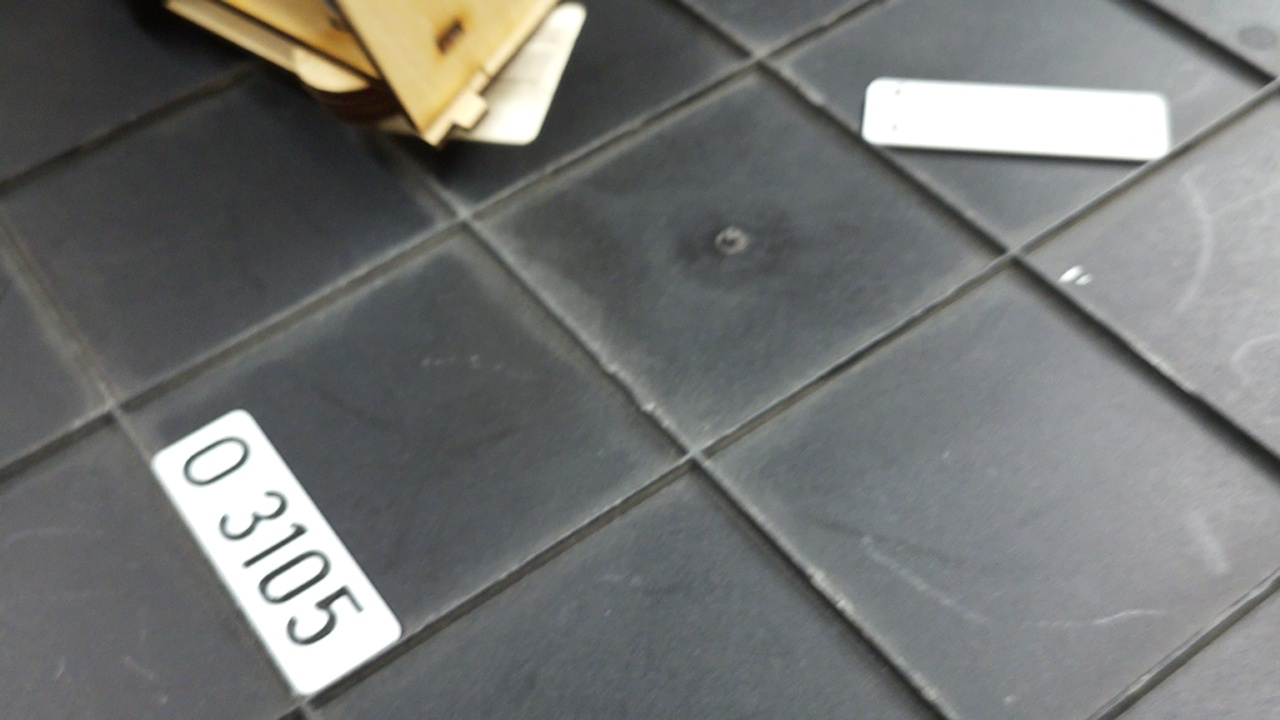license_plate: (147, 408, 407, 701)
